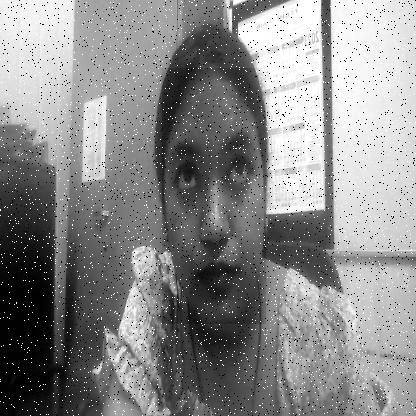Normal: (162, 68, 266, 324)
